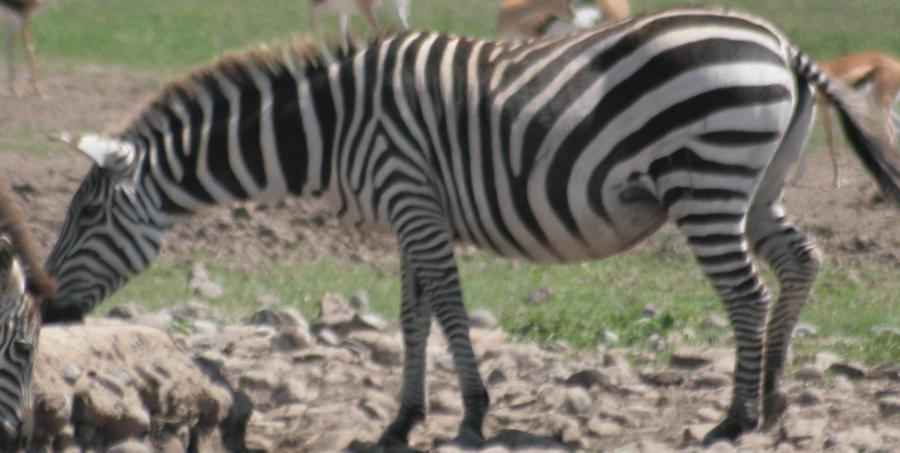zebra_plains: (323, 1, 797, 281)
